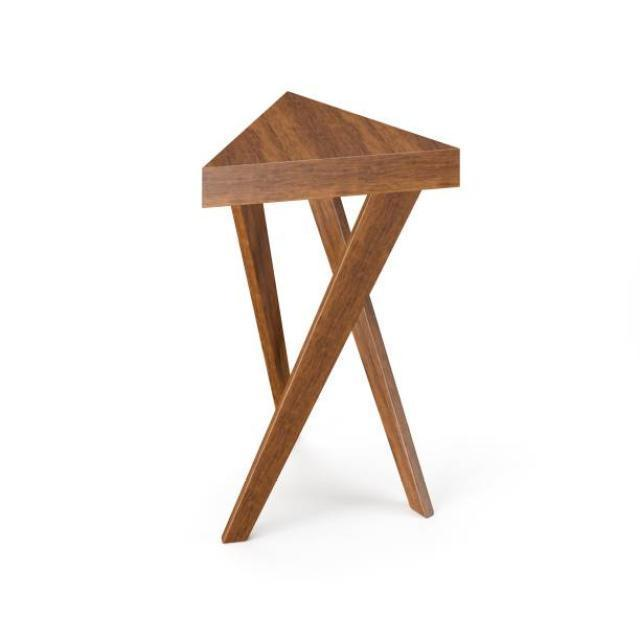table: (200, 89, 460, 543)
